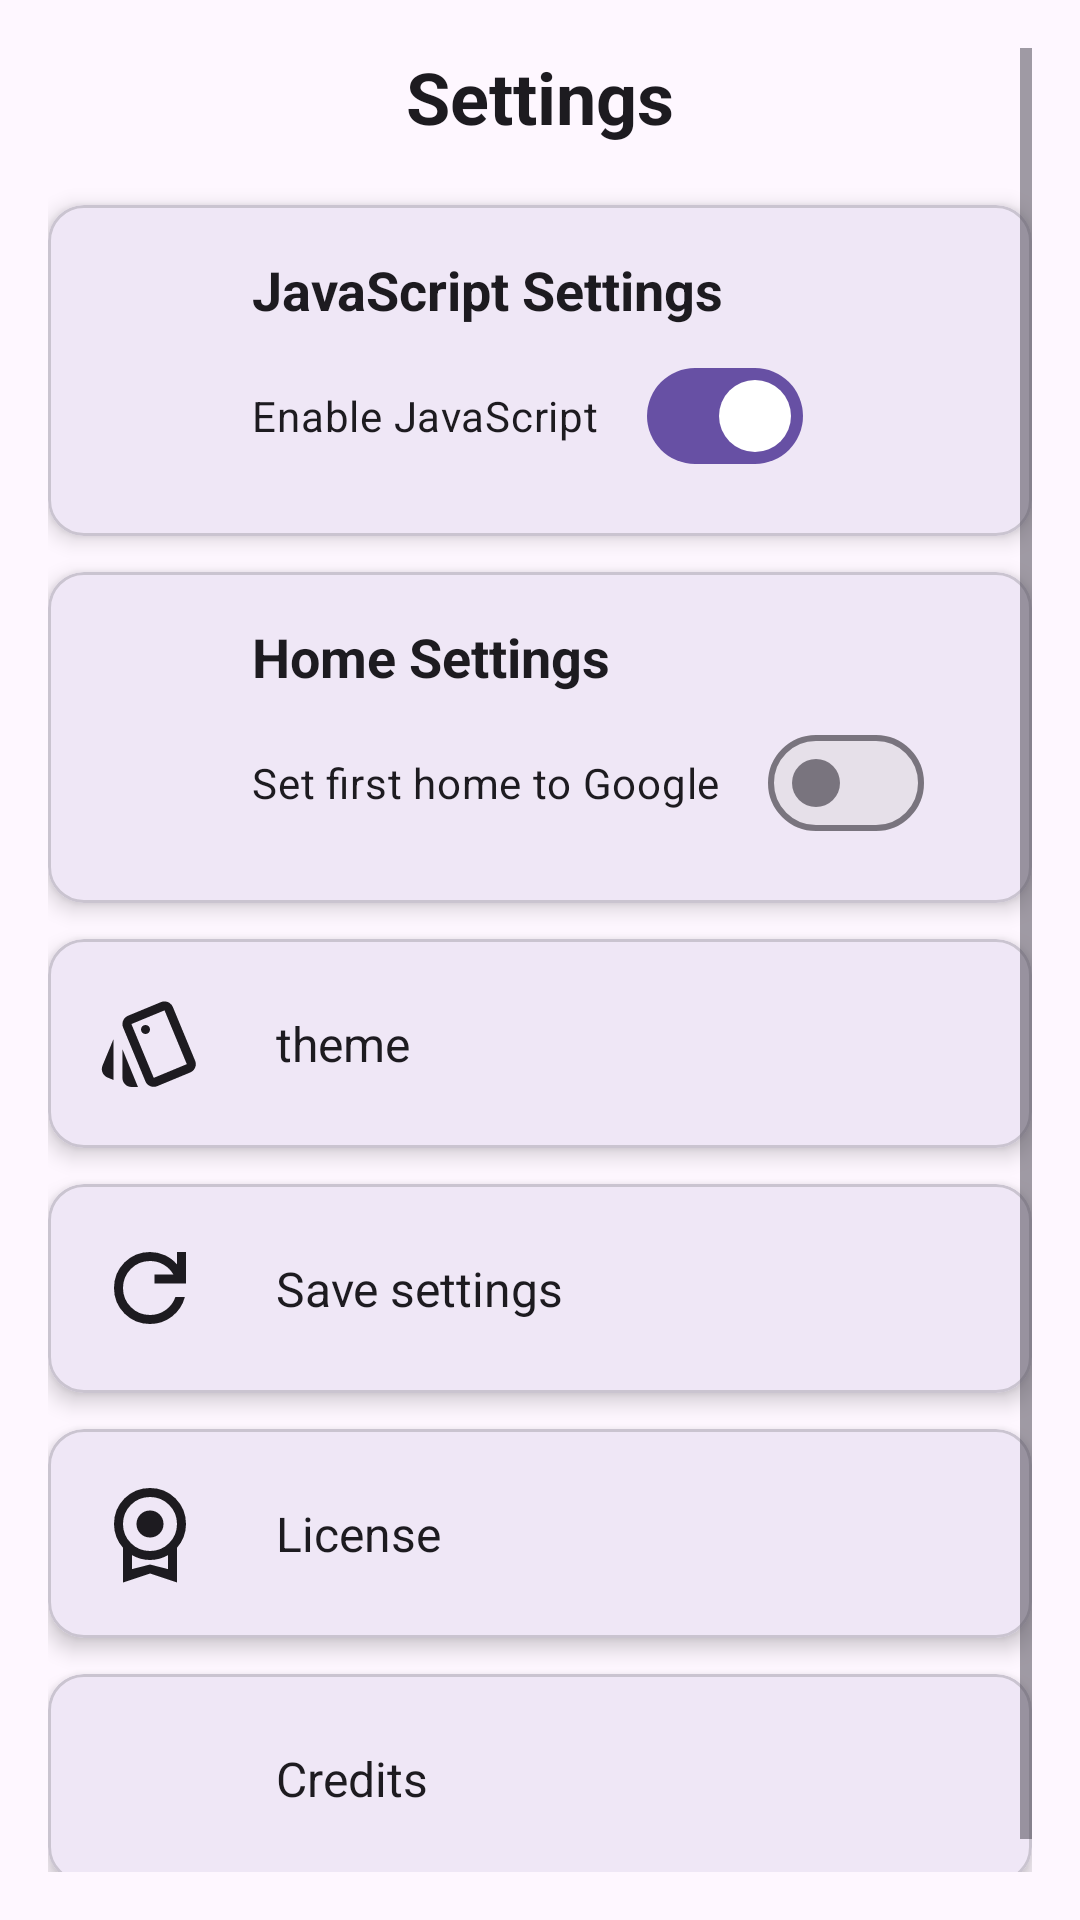

Screen size 1080x1920. Icon name, then its center in pixels as point (x, y):
refresh eaed: point (150, 1288)
style: point (148, 1044)
